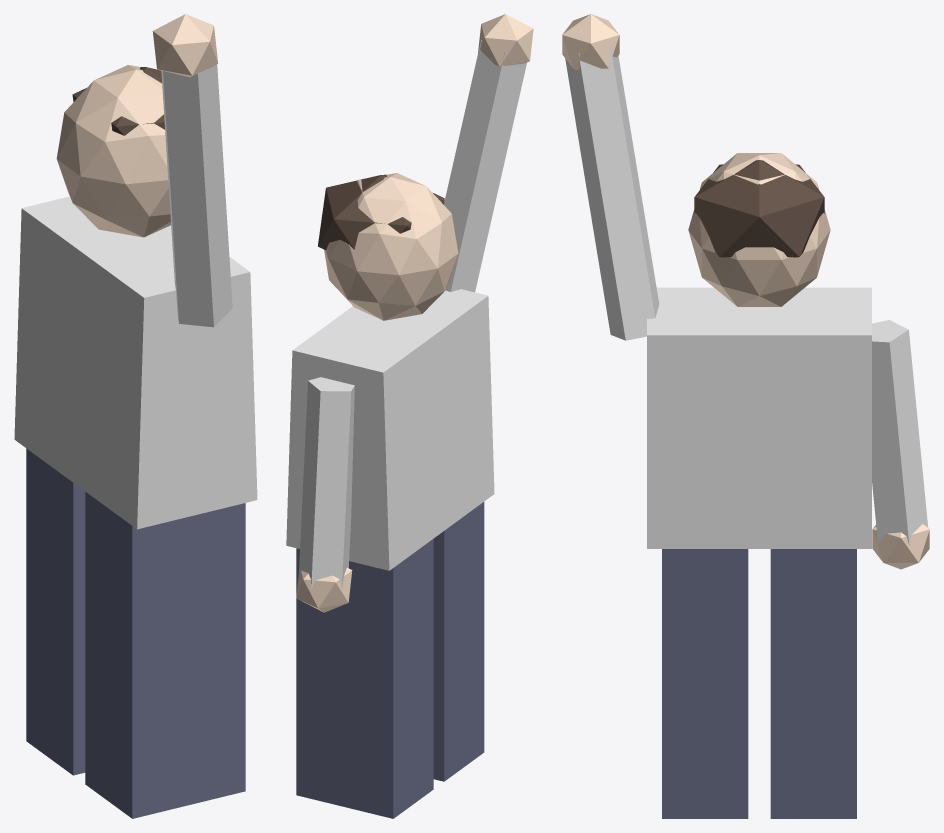
Rendered from Race_fan2.fbx.
3 views of the same model, side by side, from view 1: azimuth 30°, elevation 25°; view 2: azimuth 150°, elevation 25°; view 3: azimuth 270°, elevation 25° (orthographic). The views are drawn at different scales.
Visible parts, largest first — view 1: Race_fan2; view 2: Race_fan2; view 3: Race_fan2.
Boxes of the visible parts, x1,y1,x2,y2 form: Race_fan2: (14, 14, 257, 818); Race_fan2: (286, 14, 533, 818); Race_fan2: (562, 14, 929, 818).
Size of the model in its own units: 0.413 by 2.24 by 0.9811.
